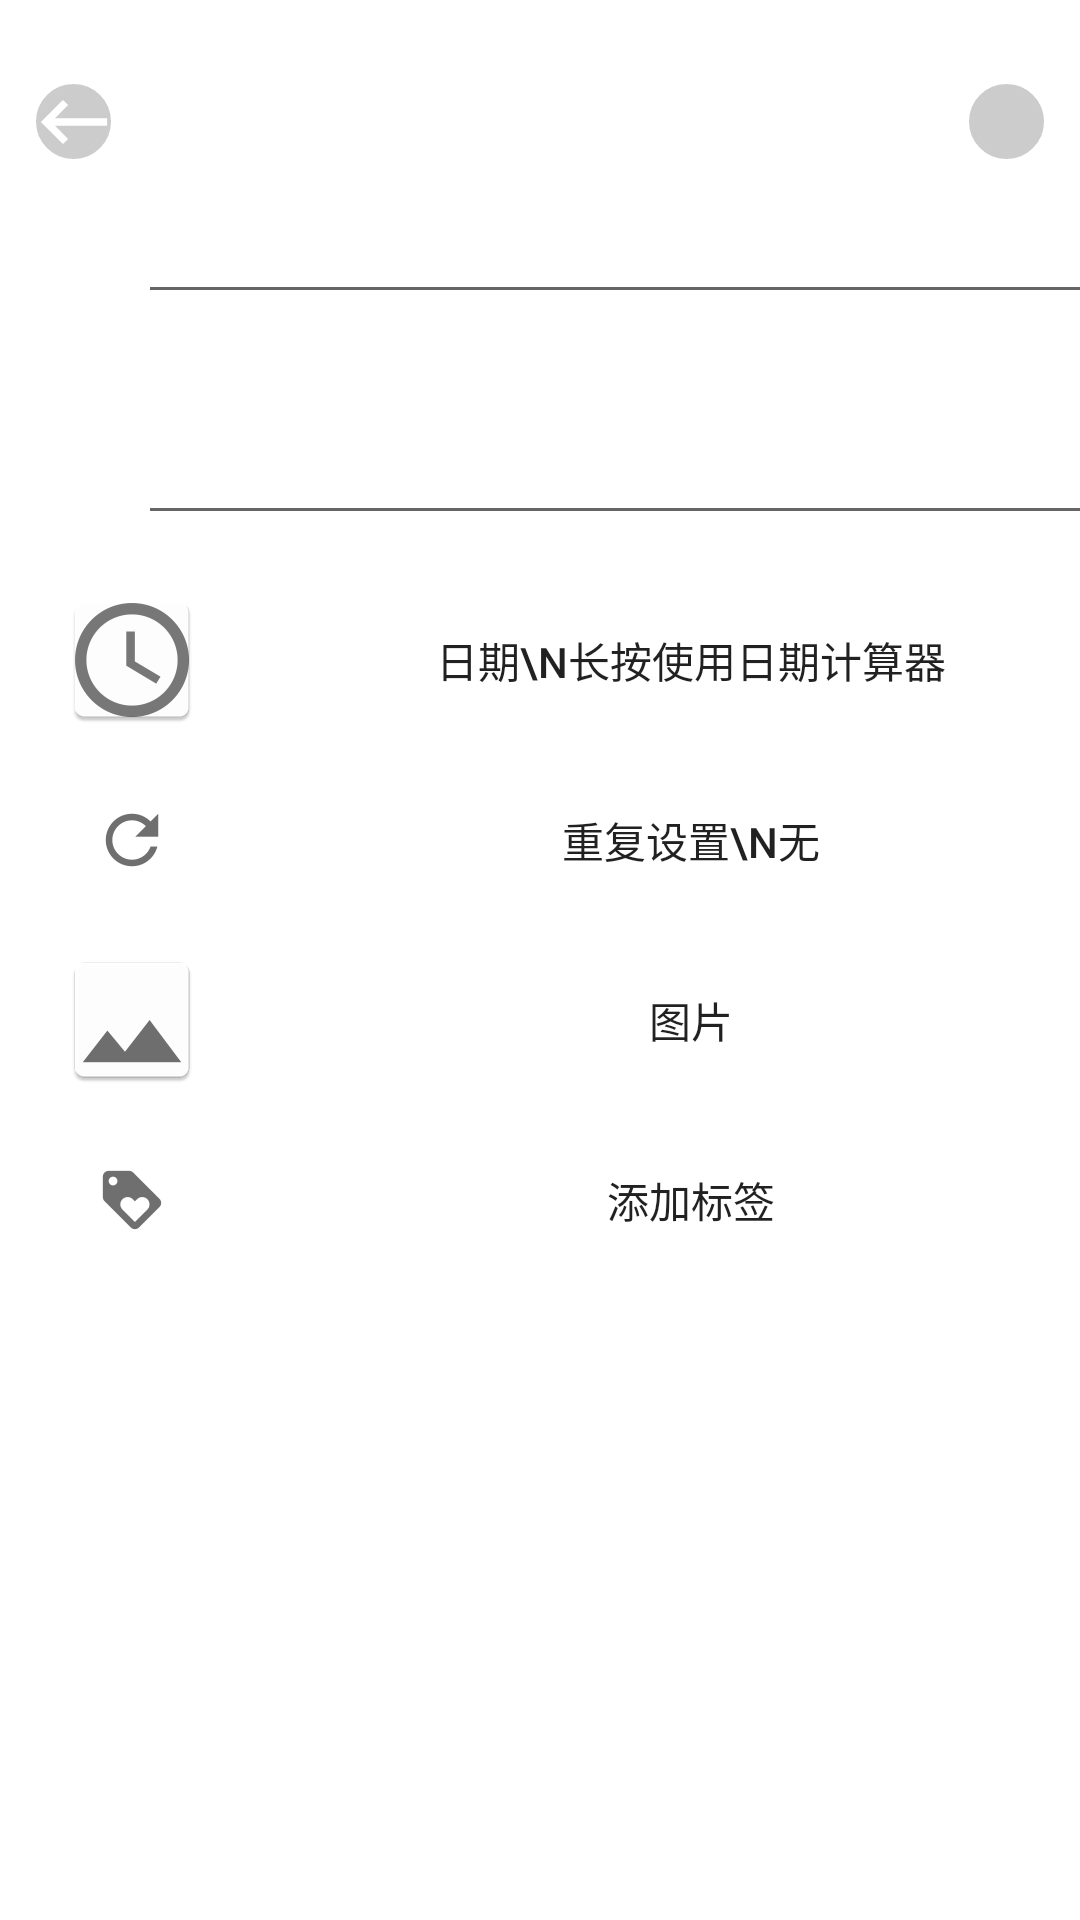

Locate icon controls on the screen. Image size 1080px x 1920px, boxes as (x1, y1, x2, y2).
back: (36, 84, 111, 159)
